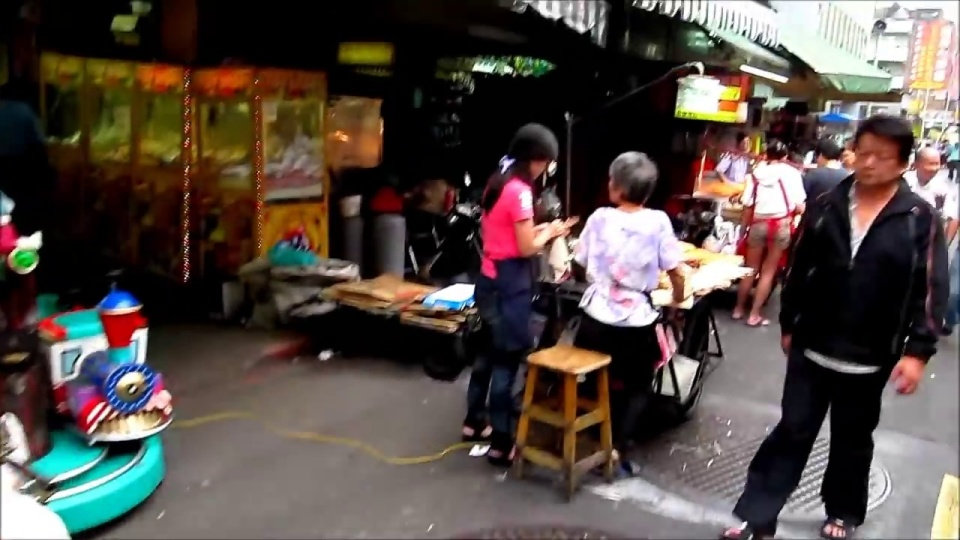person_head: (484, 123, 558, 216), (853, 114, 915, 187), (606, 149, 657, 206), (914, 144, 942, 186), (816, 138, 840, 169), (766, 140, 787, 165), (840, 148, 857, 172), (735, 130, 751, 154), (842, 135, 855, 151), (954, 139, 960, 149)
person_vbox: (745, 114, 950, 499), (571, 147, 684, 475), (475, 123, 563, 473), (730, 139, 807, 327), (902, 144, 959, 336), (801, 138, 846, 205), (712, 127, 758, 187), (947, 142, 960, 184)
